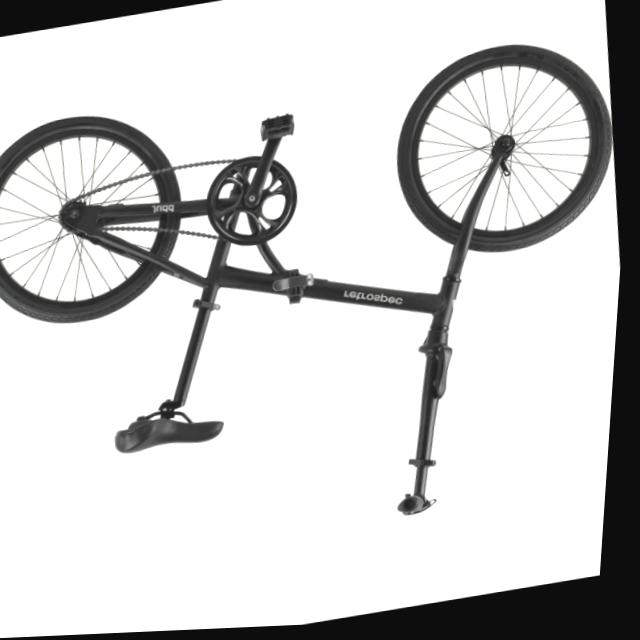folding-bike: (0, 30, 637, 590)
